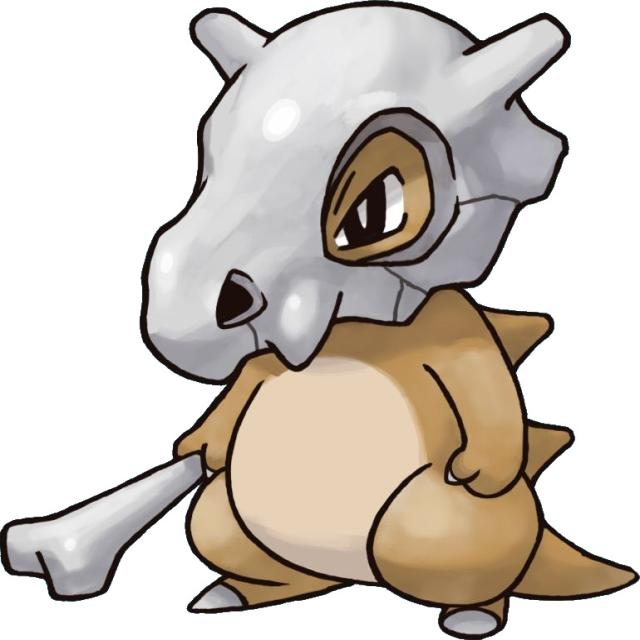Cubone: (59, 25, 614, 625)
